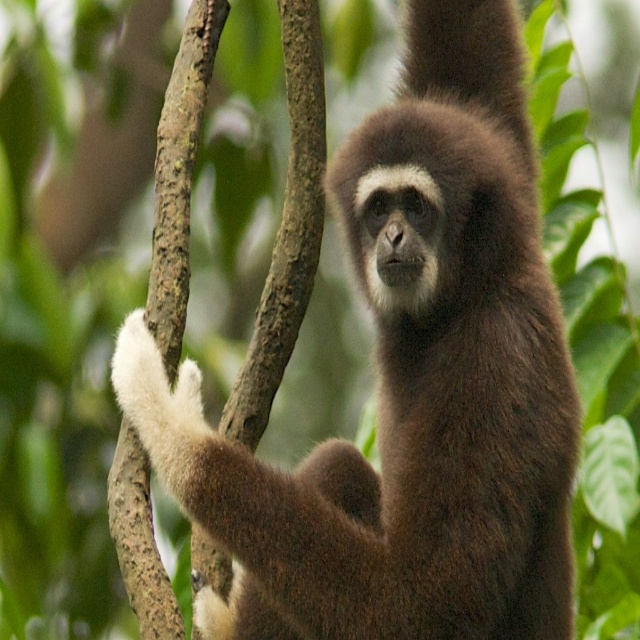Monkey: (108, 0, 592, 639)
